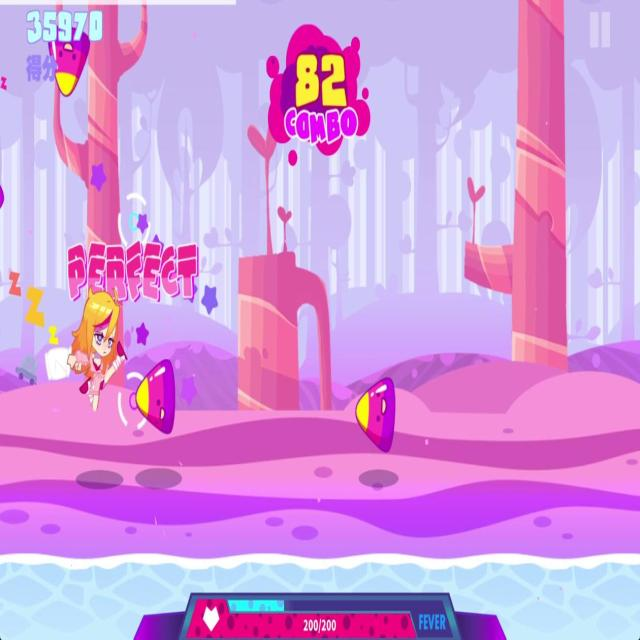jian: (353, 366, 399, 457), (133, 352, 179, 439), (48, 15, 92, 104)
